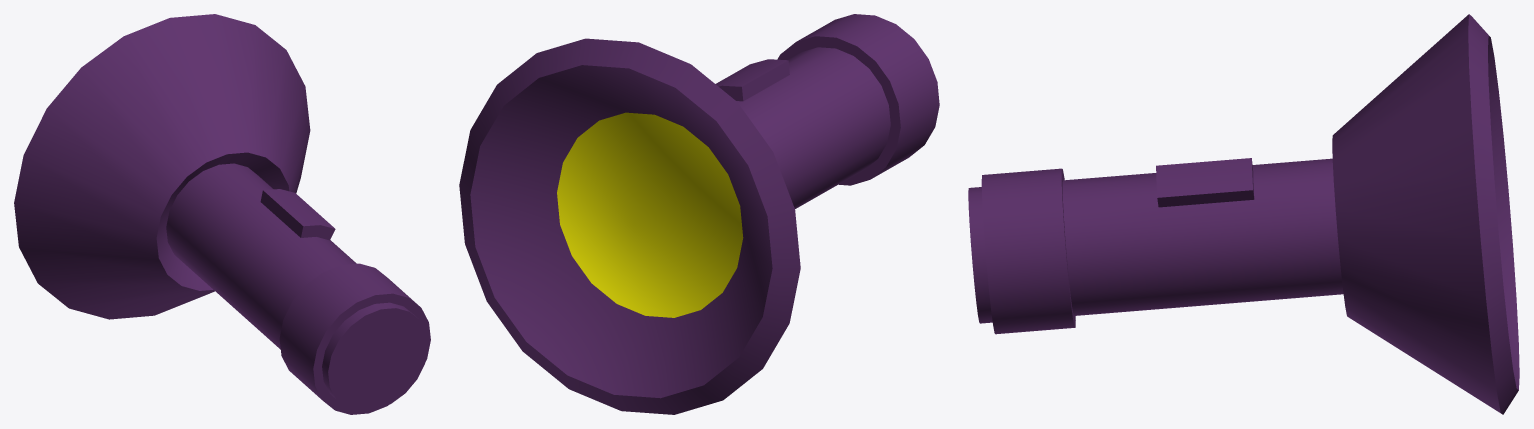
The model's file is flashlight.fbx.
3 views of the same model, side by side, from view 1: azimuth 30°, elevation 25°; view 2: azimuth 150°, elevation 25°; view 3: azimuth 270°, elevation 25° (orthographic). The views are drawn at different scales.
Visible parts, largest first — view 1: pCylinder1; view 2: pCylinder1; view 3: pCylinder1.
Boxes of the visible parts, x1,y1,x2,y2 form: pCylinder1: (14, 14, 430, 414); pCylinder1: (459, 14, 939, 414); pCylinder1: (968, 14, 1519, 414).
Size of the model in its own units: 4.49 by 4.47 by 6.1.
